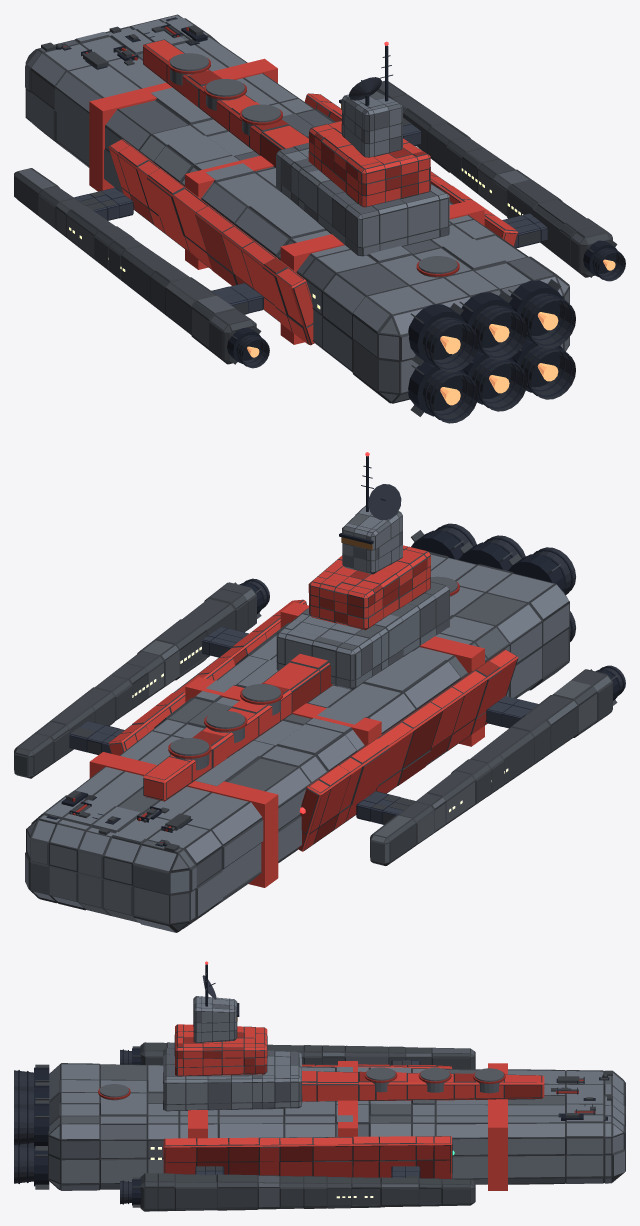
Rendered from juggernaut.glb.
3 views of the same model, one above another, from view 1: azimuth 30°, elevation 25°; view 2: azimuth 150°, elevation 25°; view 3: azimuth 270°, elevation 25° (orthographic). The views are drawn at different scales.
Visible parts, largest first — view 1: juggernaut_mesh; view 2: juggernaut_mesh, radar_mesh; view 3: juggernaut_mesh.
Boxes of the visible parts, x1,y1,x2,y2 form: juggernaut_mesh: (14, 14, 625, 423); juggernaut_mesh: (14, 456, 625, 932); radar_mesh: (368, 484, 401, 520); juggernaut_mesh: (14, 964, 625, 1211).
Bounding box in the file's own units: 32.35 × 22.04 × 58.35.
